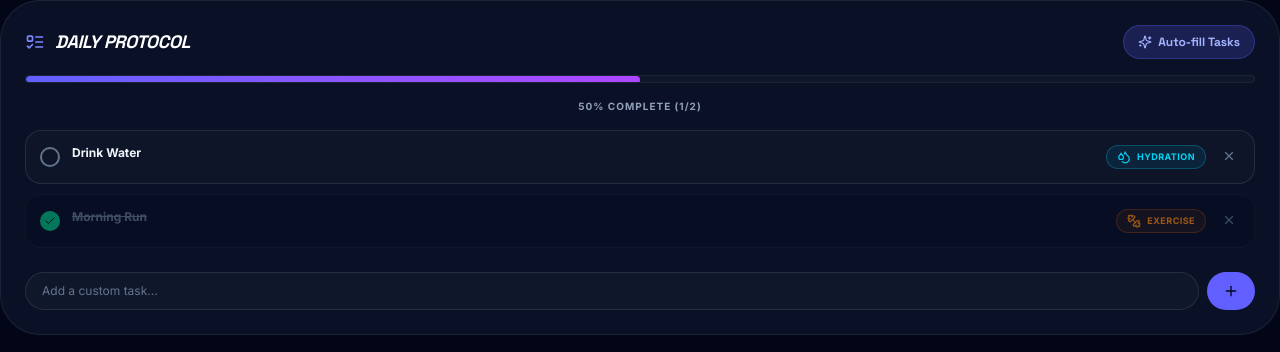
it: DailyChecklist Component › allows deleting a task
Expected: the text "Drink Water" is shown, [72, 145, 141, 160]
Click the button without text next to "Hydration".
click(1229, 156)  # box [1218, 145, 1240, 167]
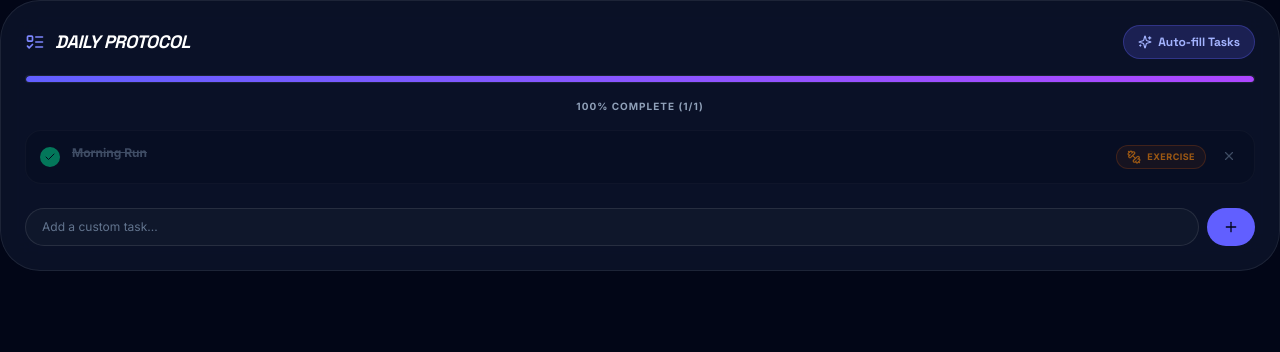
Result: the text "Drink Water" is gone
